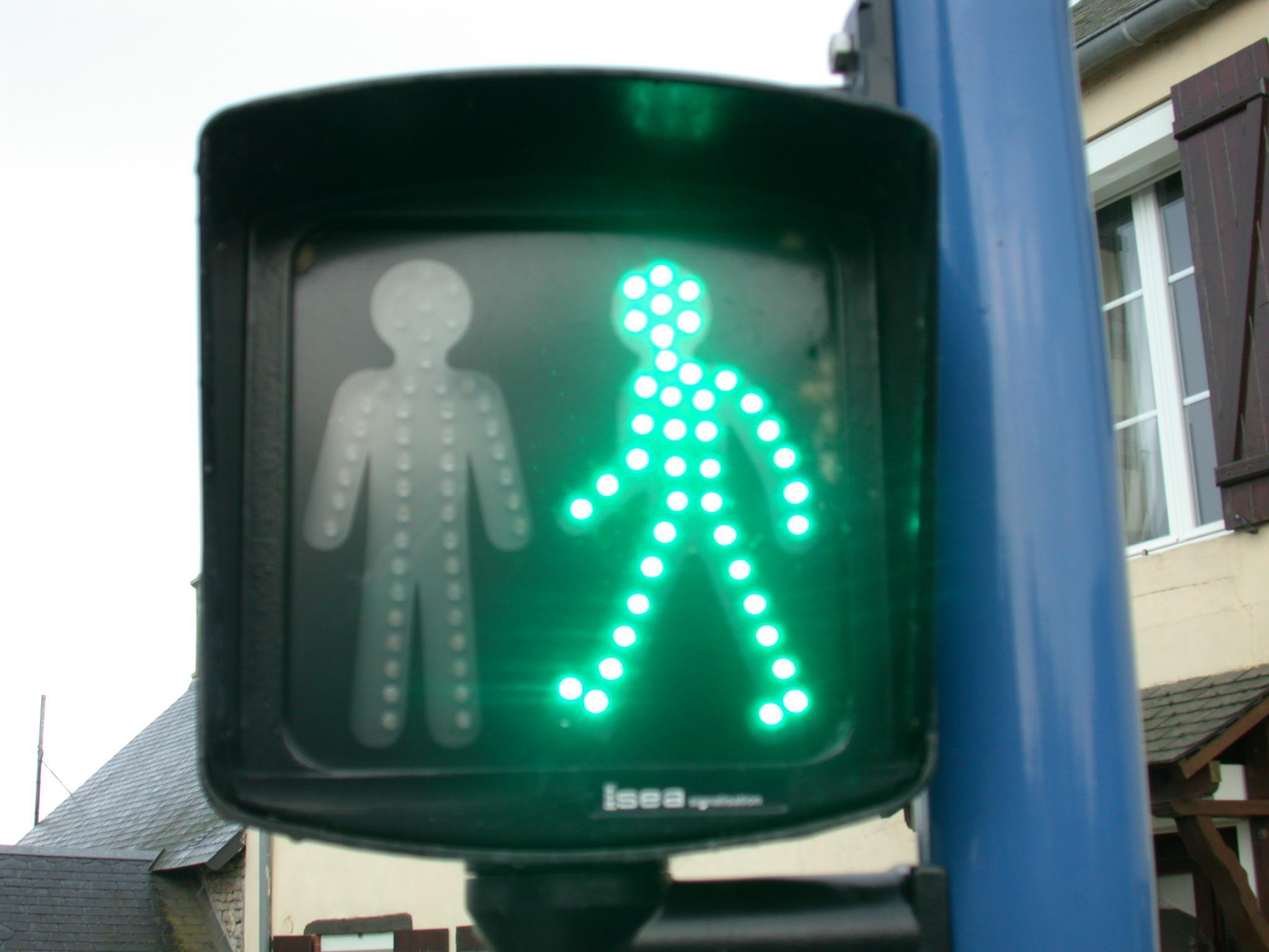green: (155, 81, 981, 855)
